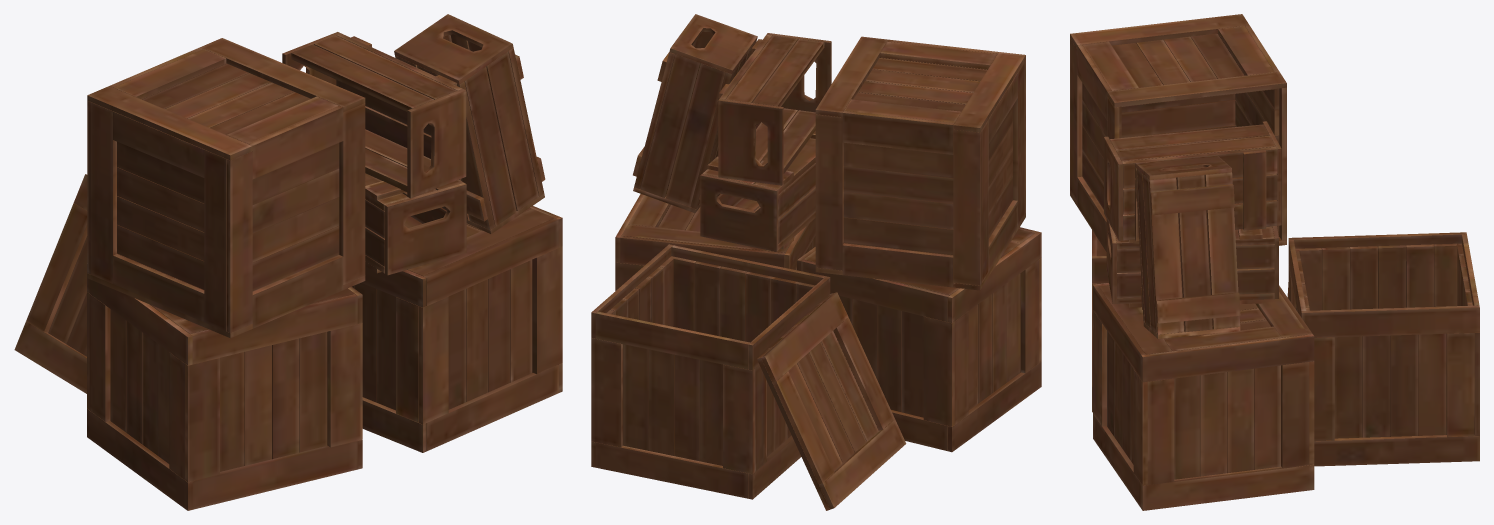
The model's file is pile.glb.
3 renders of one model, left to right at view 1: azimuth 30°, elevation 25°; view 2: azimuth 150°, elevation 25°; view 3: azimuth 270°, elevation 25°, orthographic. The views are drawn at different scales.
Visible parts, largest first — view 1: Object_2; view 2: Object_2; view 3: Object_2.
Part boxes in pixels (x1,y1,x2,y2): Object_2: (14, 14, 562, 510); Object_2: (591, 14, 1041, 510); Object_2: (1070, 14, 1479, 510).
Size of the model in its own units: 2.44 by 1.99 by 2.34.
1 material, 1 textured.
